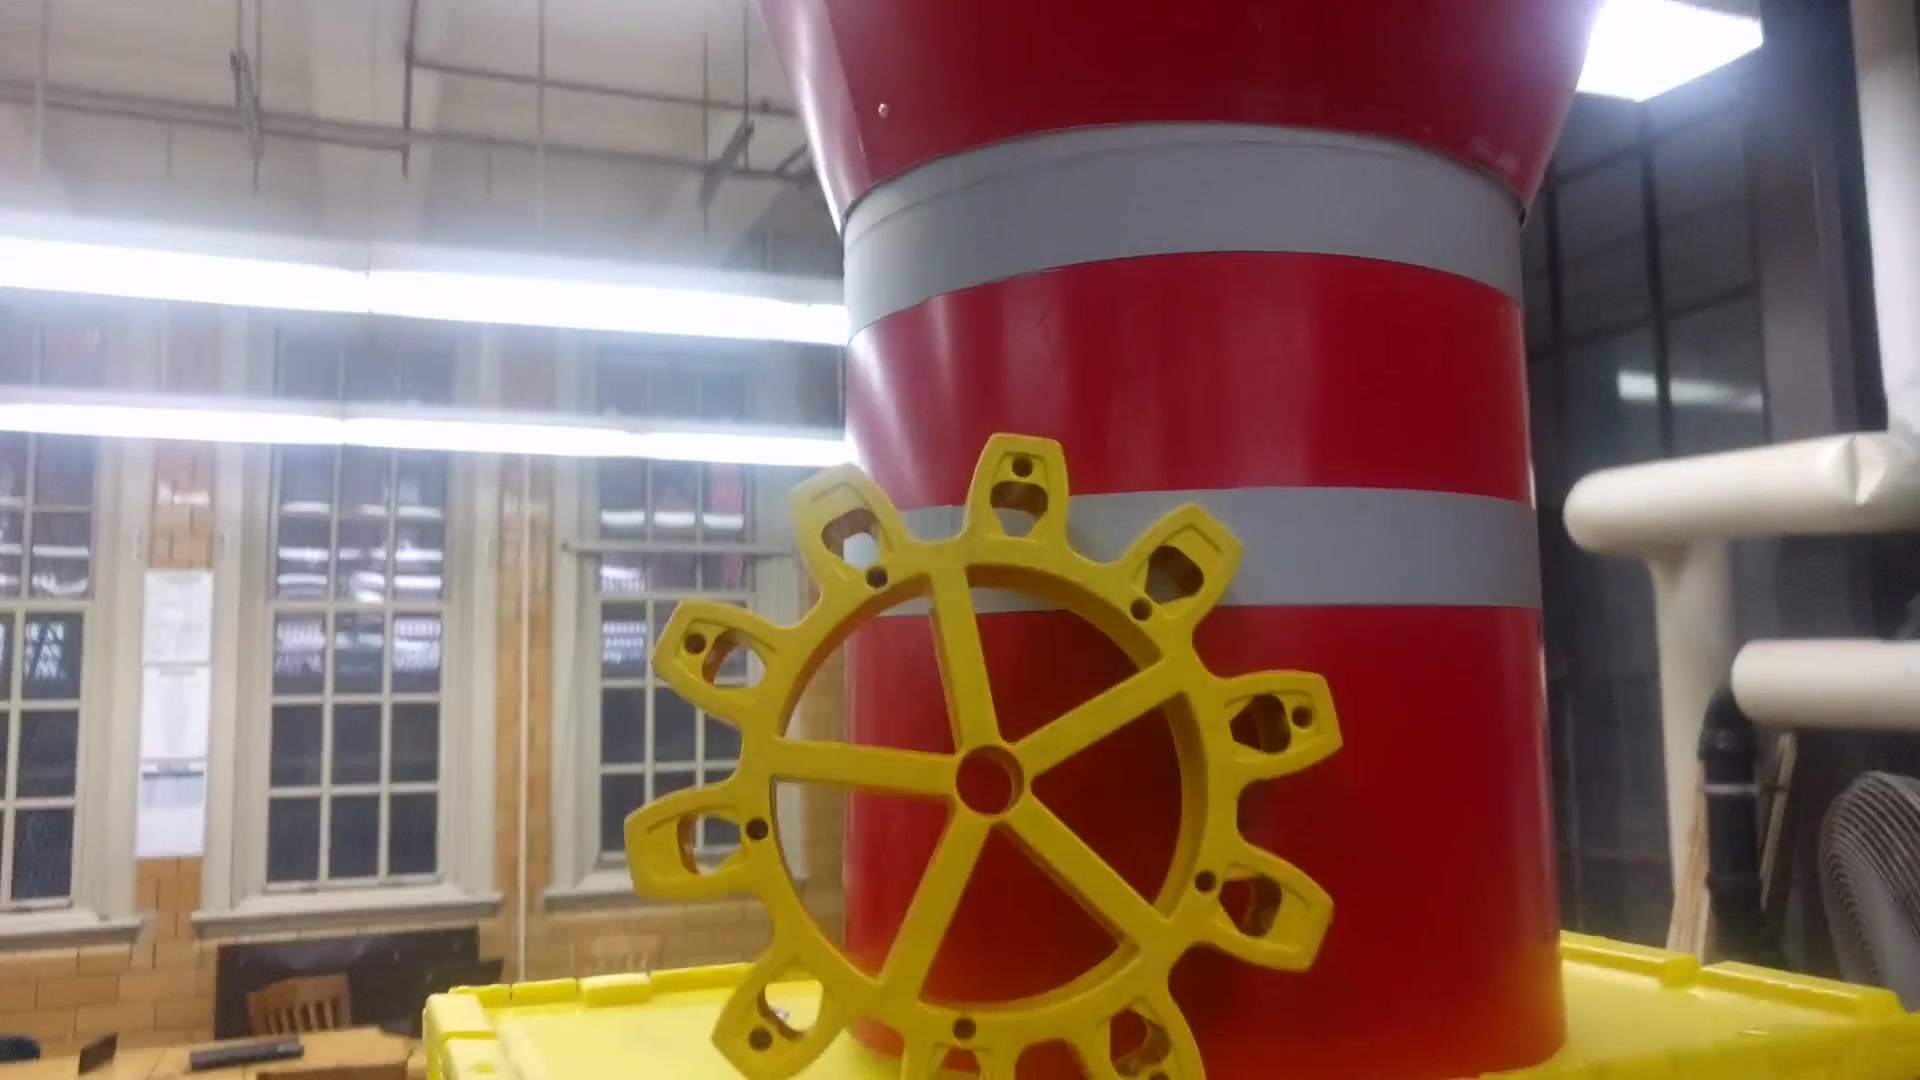gear: (616, 433, 1361, 1080)
